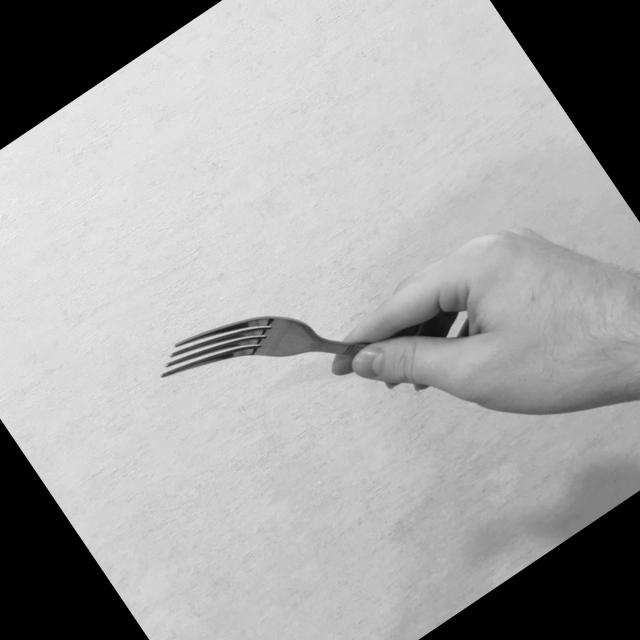fork: (142, 201, 474, 498)
